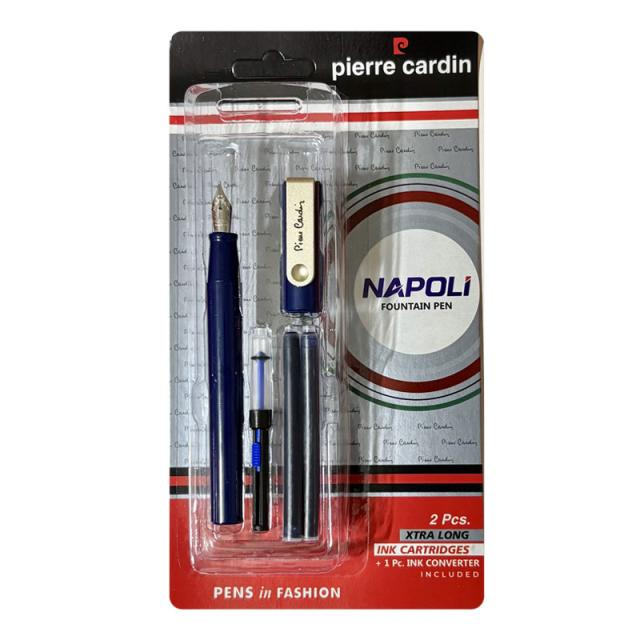pen: (208, 165, 248, 541)
